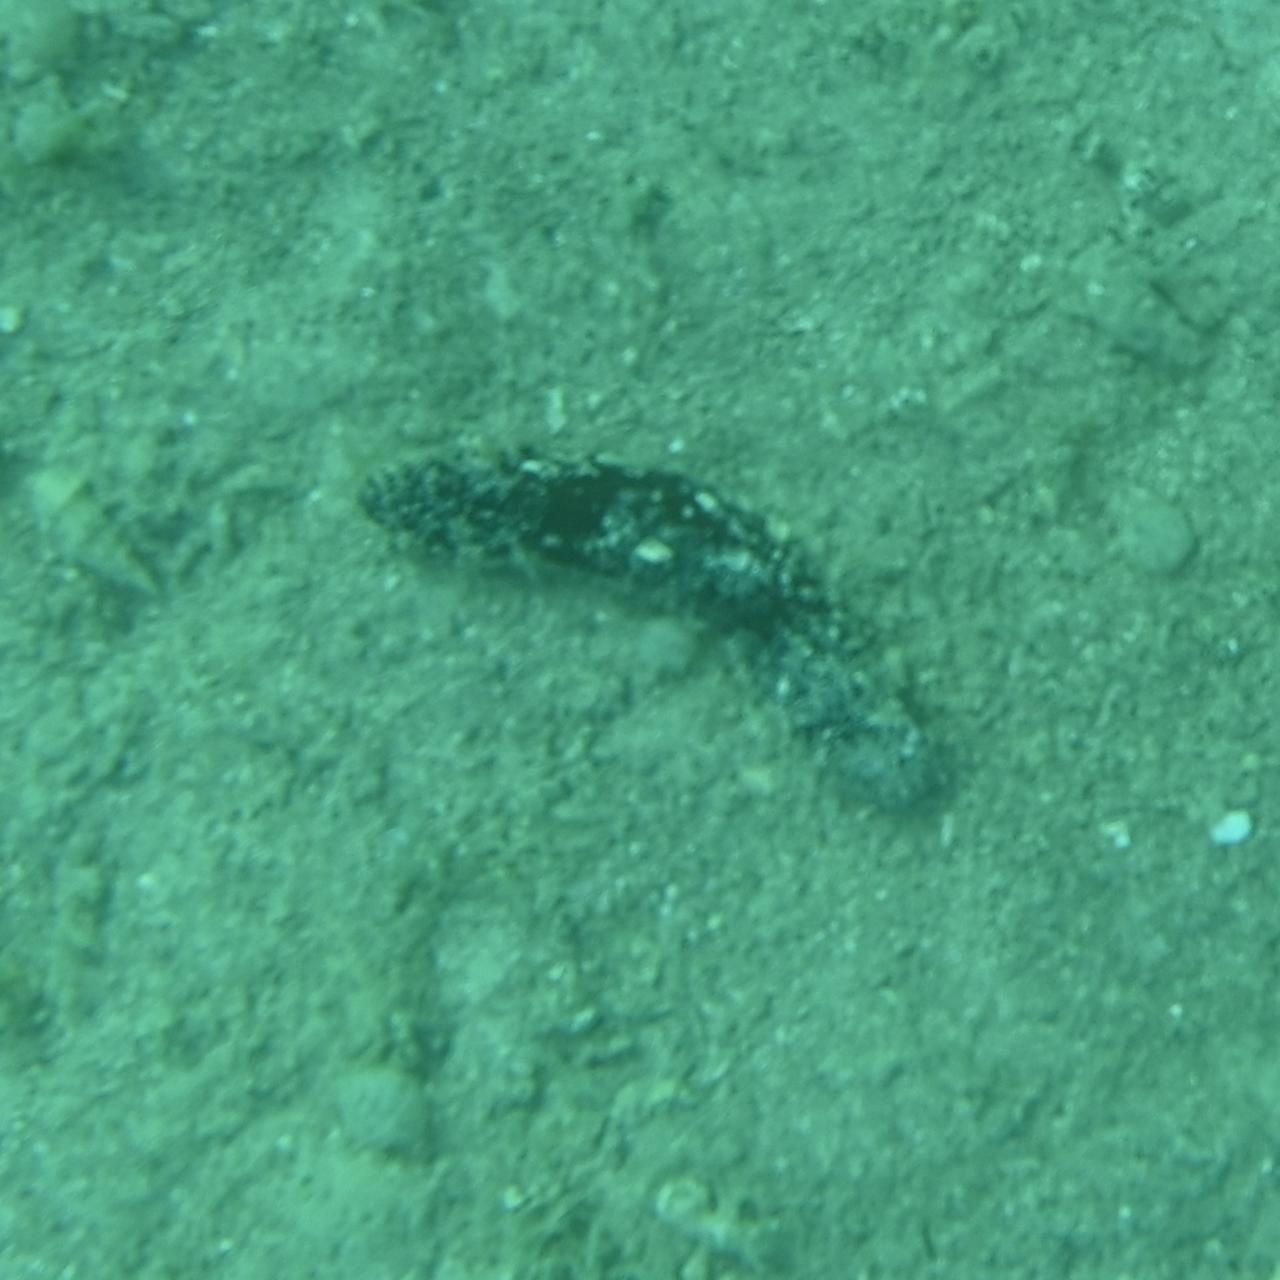Holothuria tubulosa: (331, 436, 949, 844)
